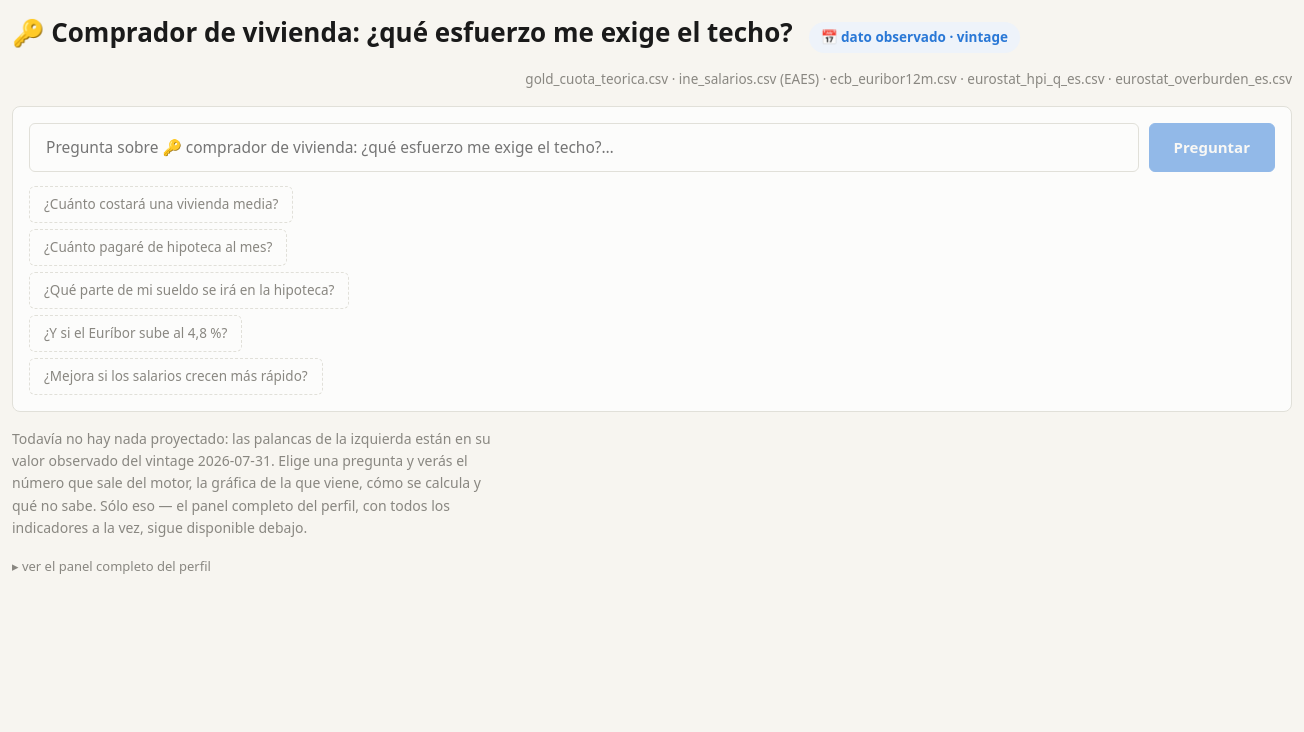
Persona — the free-text box › says so when it cannot answer, instead of doing nothing
Replace the text in the field with class "consulta-input" with "quien ganara las elecciones" at [584, 147], box [29,123,1139,172]
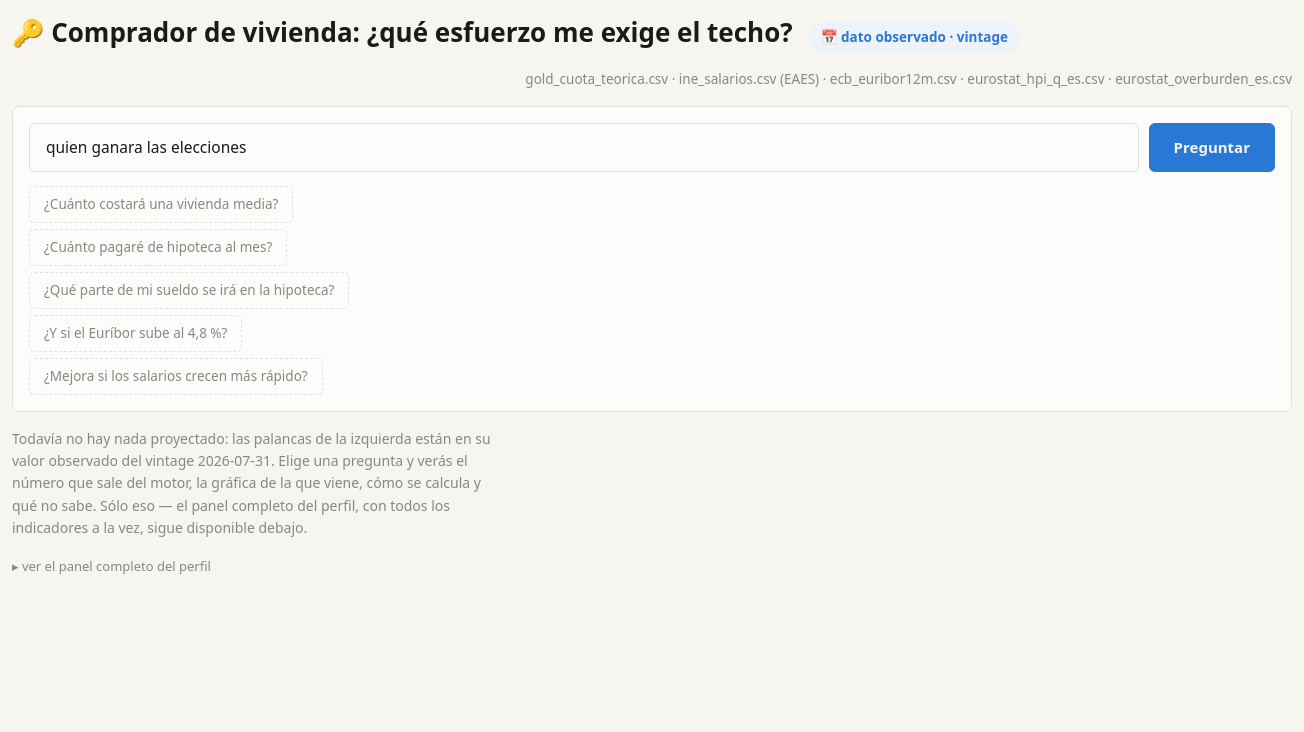
Submit the form with class "consulta-form", box [29,123,1275,172]
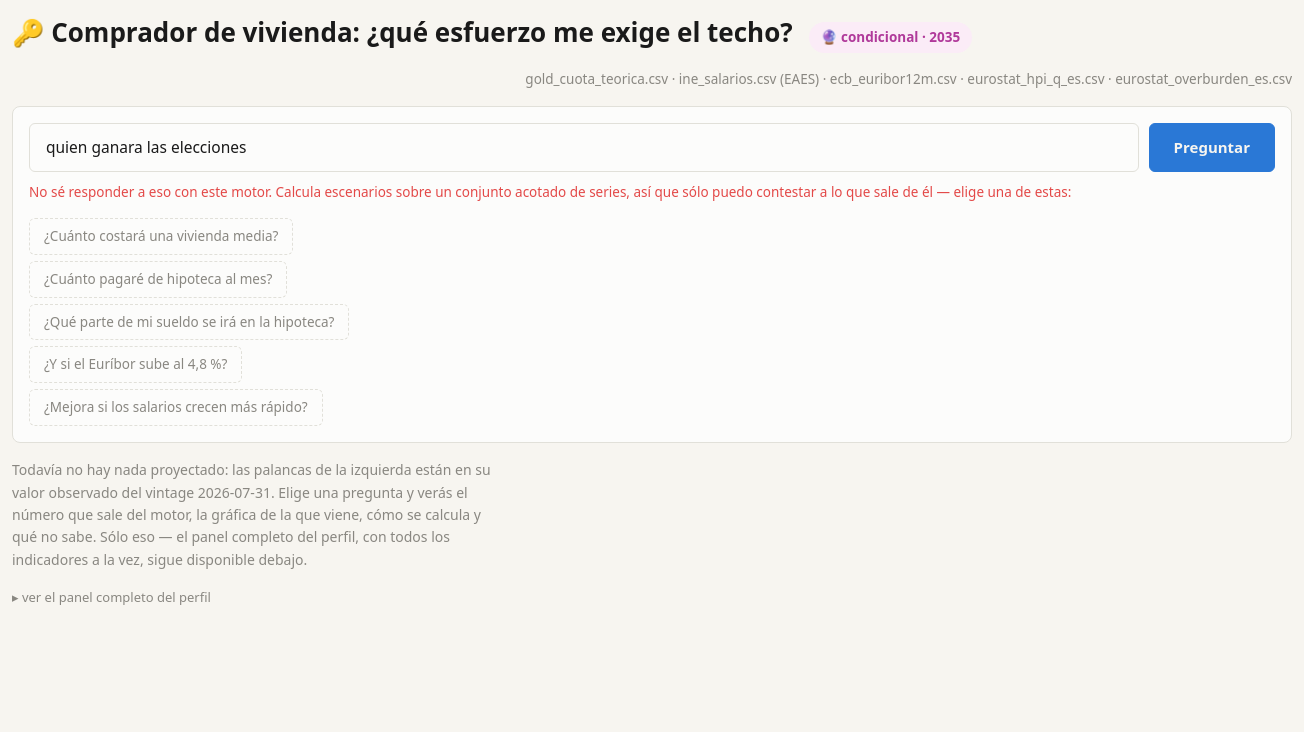
Now the text with class "ask-nomatch" is shown, box [29,183,1071,201]
